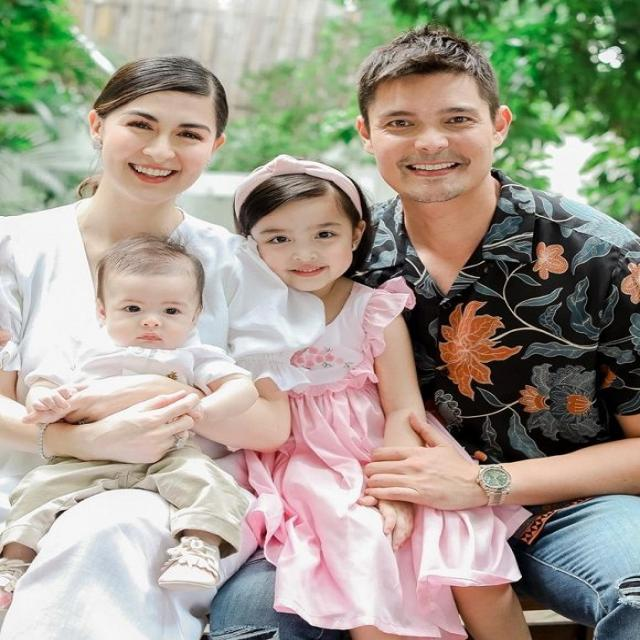sem_oculos: (100, 101, 240, 152), (356, 92, 509, 134), (86, 285, 205, 329), (250, 224, 358, 248)
